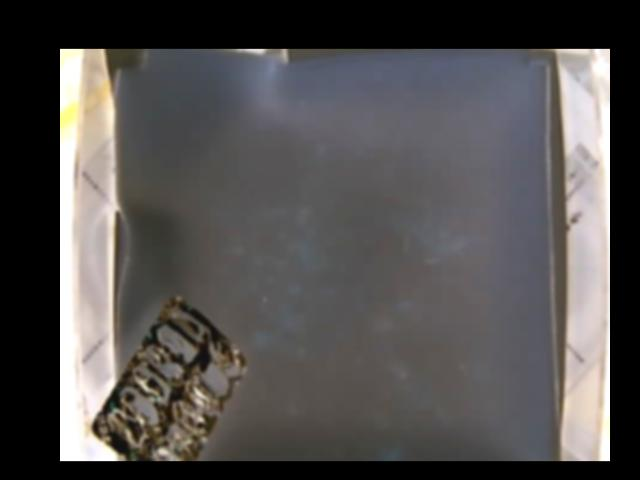Medicine: (90, 297, 248, 461)
